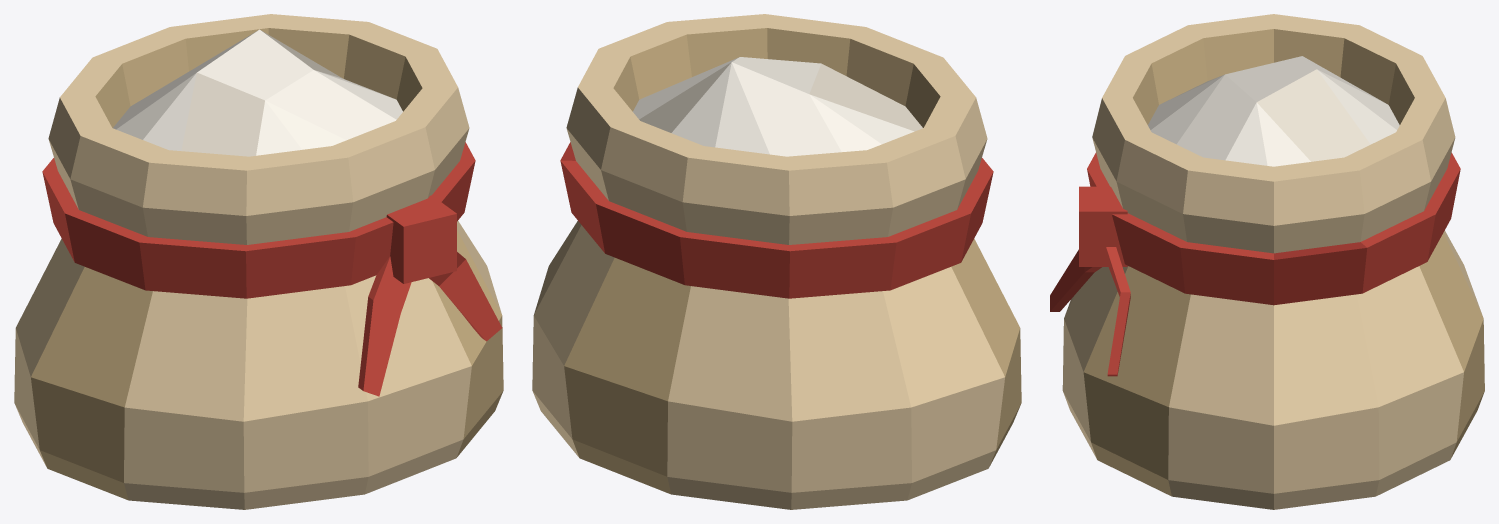
Rendered from FMS_Workshop_PRD_10.fbx.
The picture shows the model from 3 angles, left to right: view 1: azimuth 30°, elevation 25°; view 2: azimuth 150°, elevation 25°; view 3: azimuth 270°, elevation 25°; orthographic projection. The views are drawn at different scales.
Visible parts, largest first — view 1: FMS_Workshop_PRD_10_Body; view 2: FMS_Workshop_PRD_10_Body; view 3: FMS_Workshop_PRD_10_Body.
Boxes of the visible parts, x1=… form: FMS_Workshop_PRD_10_Body: x1=14, y1=14, x2=503, y2=509; FMS_Workshop_PRD_10_Body: x1=532, y1=14, x2=1021, y2=509; FMS_Workshop_PRD_10_Body: x1=1050, y1=14, x2=1484, y2=509.
Bounding box in the file's own units: 0.35 × 0.268 × 0.3.
